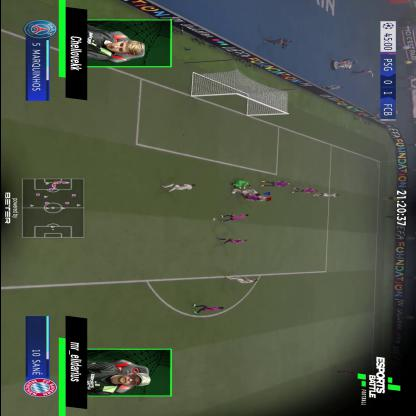ball: (232, 191, 235, 193)
